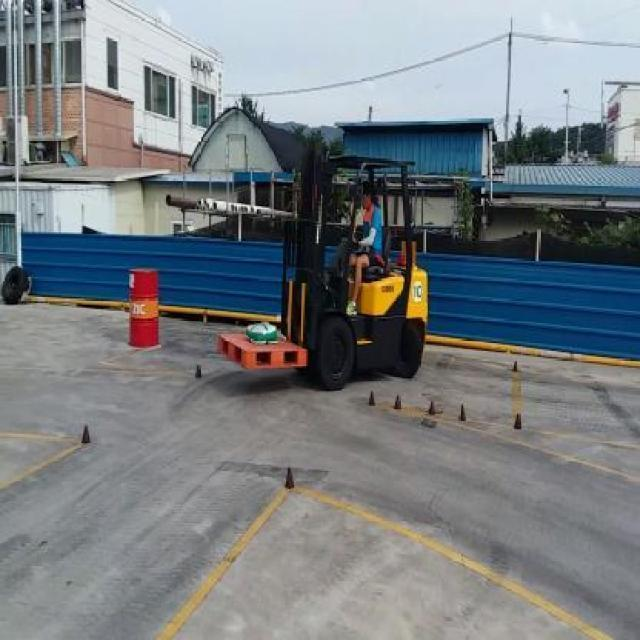forklift: (288, 156, 428, 390)
